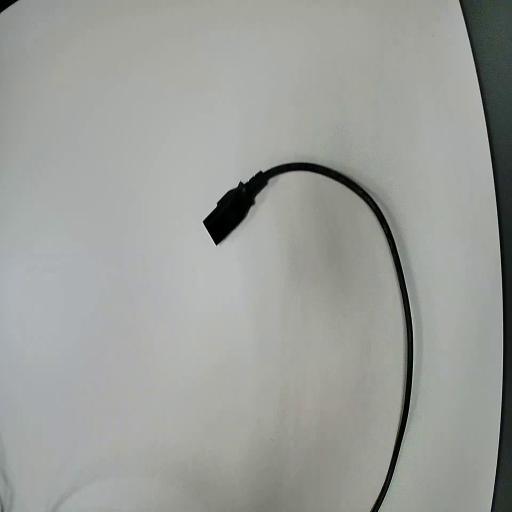wire: (204, 163, 411, 511)
